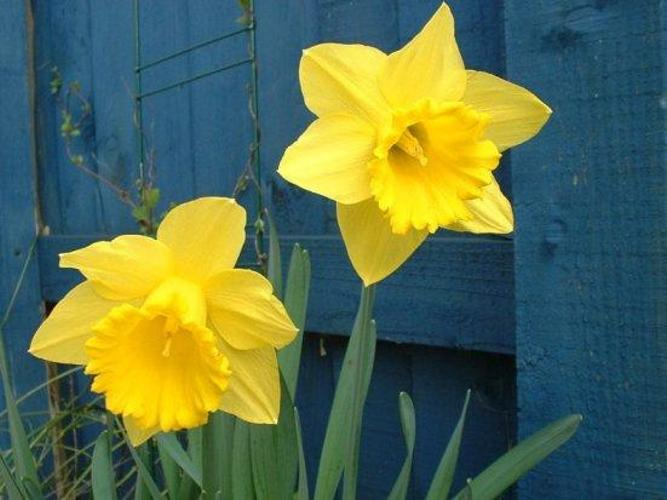flower1: (283, 22, 553, 289), (27, 194, 301, 449)
